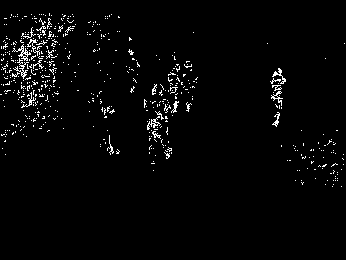person: (138, 84, 177, 168), (266, 66, 290, 132)
